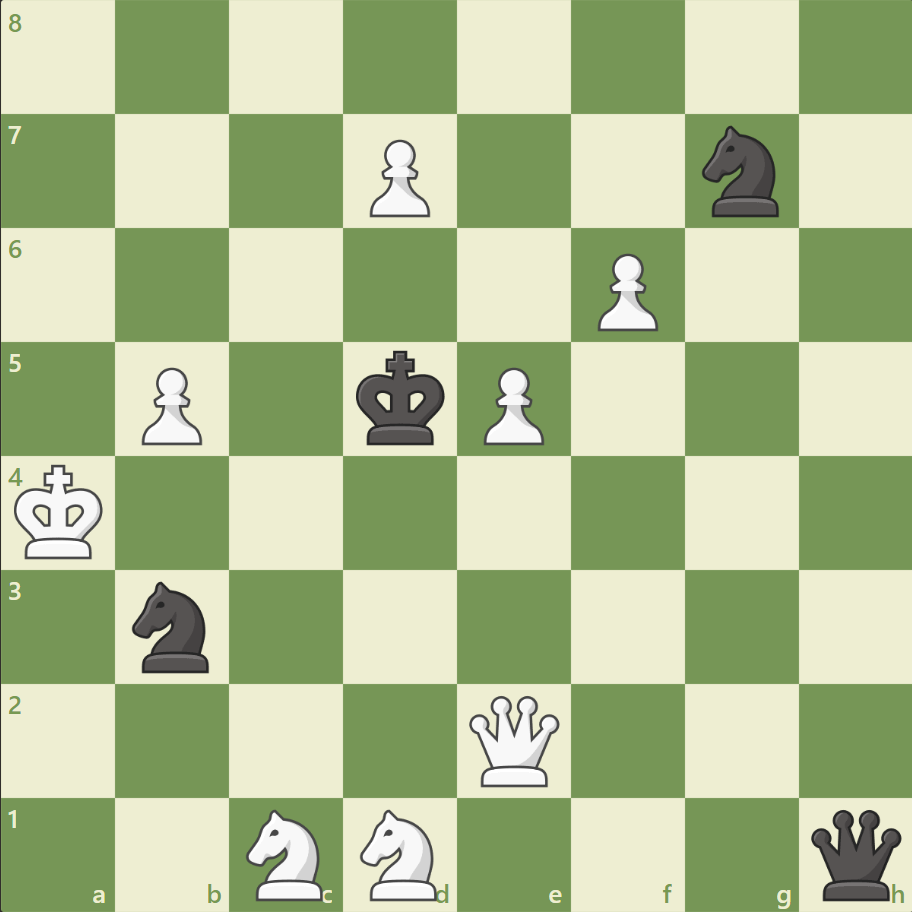K: (11, 458, 111, 566)
N: (351, 802, 449, 904), (238, 802, 335, 904)
P: (133, 359, 208, 450), (474, 359, 549, 450), (361, 132, 435, 223), (588, 246, 662, 337)
Q: (464, 690, 563, 789)
k: (351, 344, 451, 452)
n: (124, 575, 222, 677), (692, 121, 789, 223)
q: (805, 804, 904, 903)
